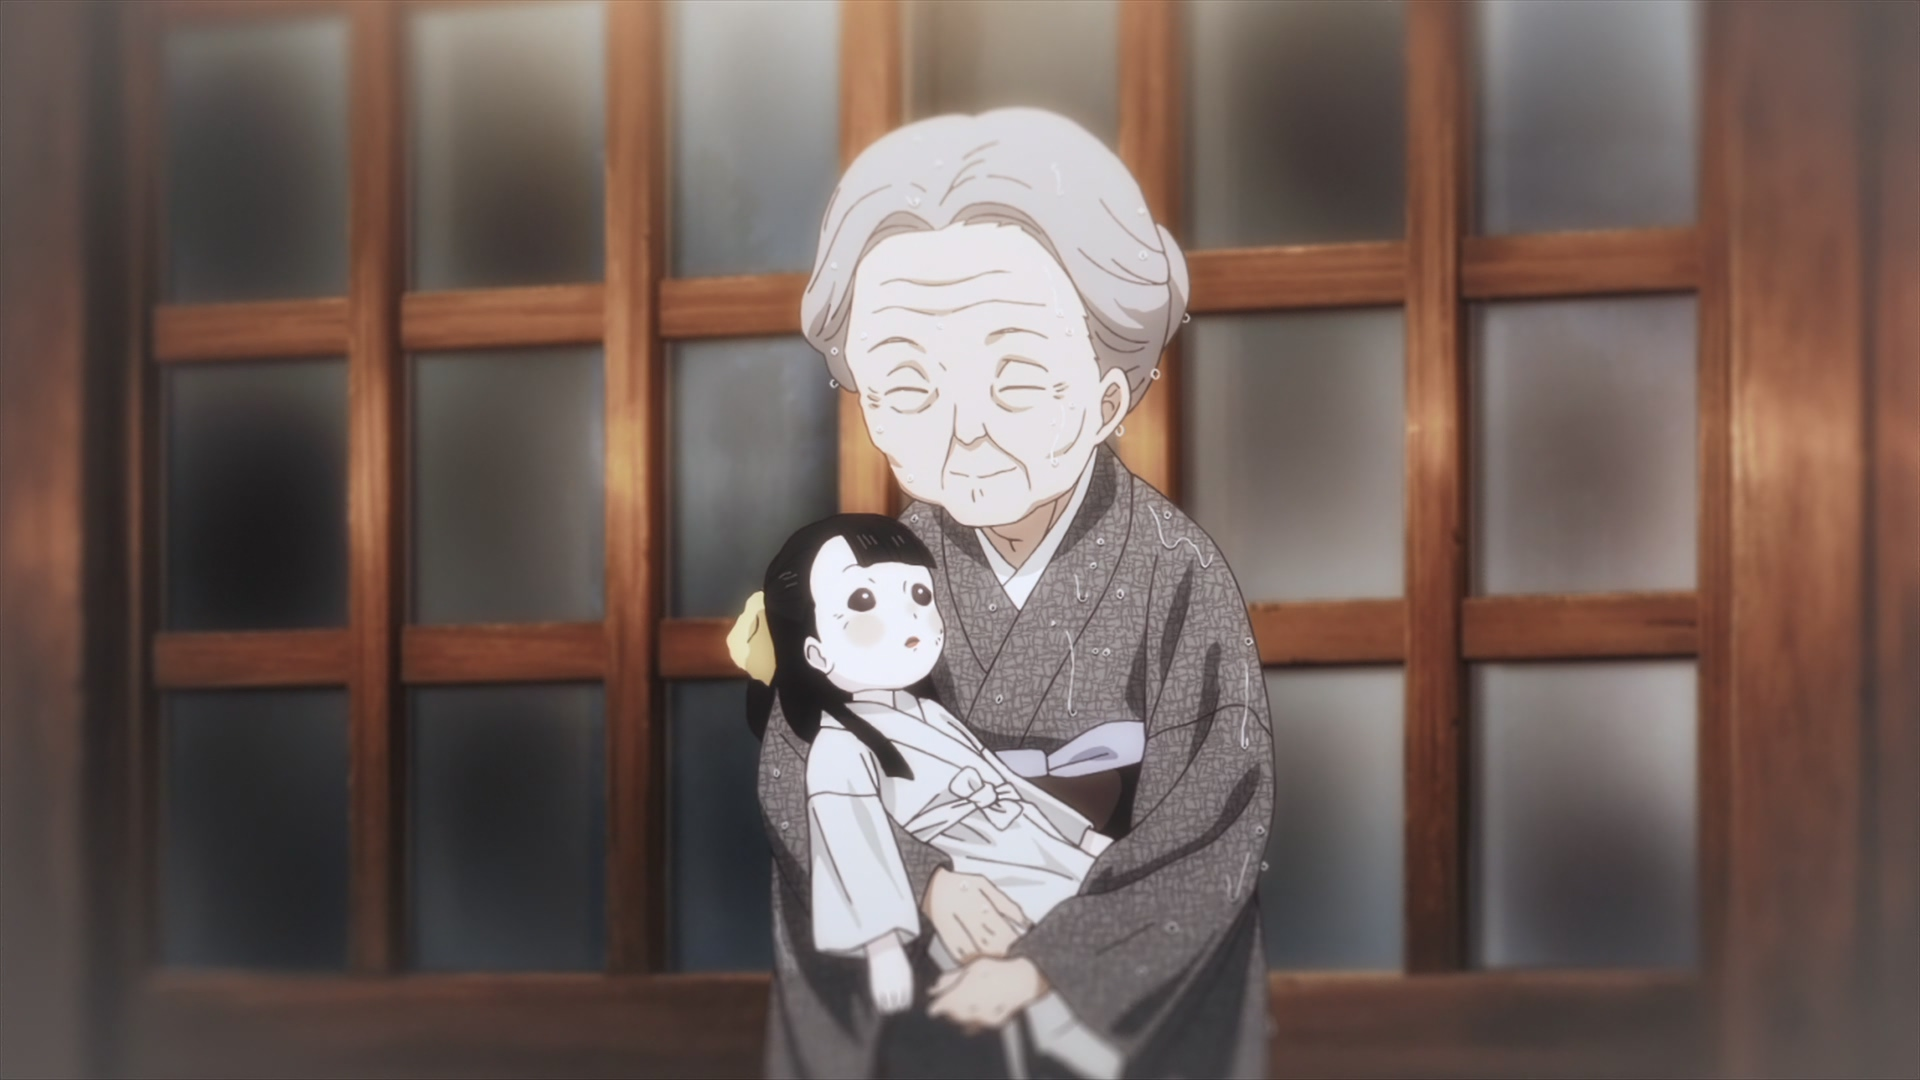其他: (754, 109, 1273, 1080), (727, 512, 1112, 1015)
